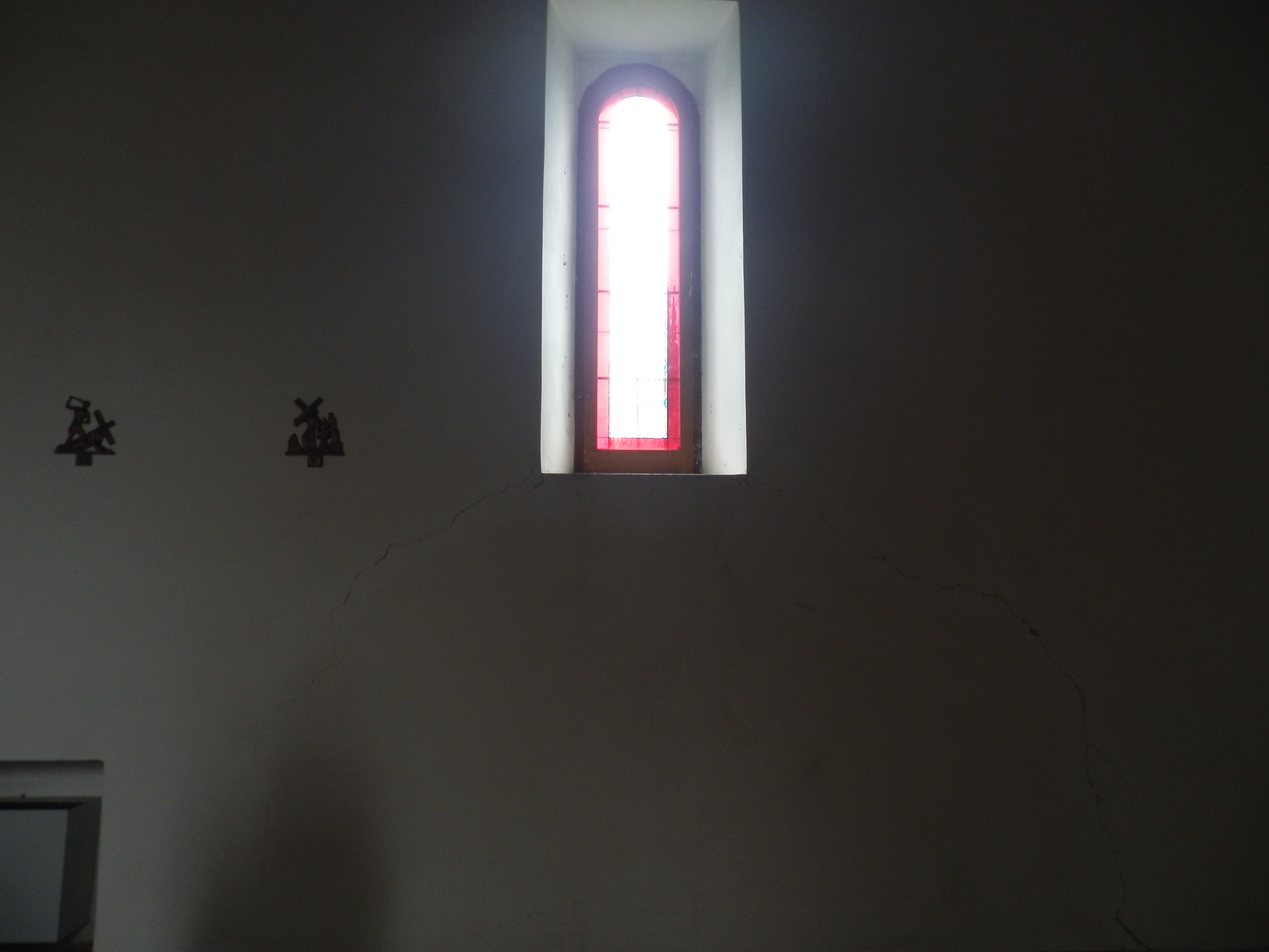Crack: (173, 417, 1208, 941)
